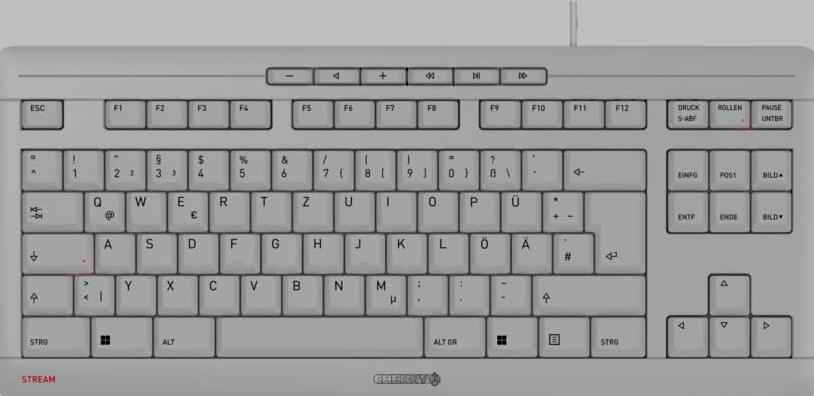0: (438, 147, 478, 189)
1: (63, 148, 101, 189)
2: (104, 148, 144, 189)
3: (146, 148, 186, 189)
4: (188, 147, 227, 188)
5: (229, 147, 269, 189)
6: (270, 147, 311, 189)
7: (314, 148, 353, 188)
8: (354, 147, 394, 189)
9: (396, 147, 437, 189)
a: (94, 231, 133, 272)
accent: (522, 147, 561, 189)
ae: (511, 231, 550, 272)
alt-left: (152, 314, 215, 357)
altgr-right: (422, 314, 486, 357)
b: (281, 272, 322, 312)
c: (198, 272, 238, 312)
caret: (19, 147, 60, 188)
comma: (406, 272, 446, 313)
d: (178, 231, 217, 271)
del: (563, 147, 645, 188)
e: (167, 189, 207, 231)
enter: (584, 189, 645, 273)
f: (220, 231, 258, 272)
g: (261, 231, 300, 271)
h: (303, 231, 342, 271)
hash: (553, 231, 593, 272)
i: (376, 190, 414, 229)
j: (344, 231, 383, 272)
k: (387, 231, 426, 271)
keyboard: (1, 41, 814, 396)
l: (428, 231, 466, 271)
less: (73, 273, 114, 313)
m: (365, 272, 405, 313)
minus: (489, 273, 530, 312)
n: (324, 273, 363, 313)
o: (417, 189, 457, 229)
oe: (469, 231, 508, 271)
p: (459, 189, 498, 230)
plus: (542, 189, 582, 231)
point: (449, 273, 488, 312)
q: (83, 189, 124, 231)
r: (209, 190, 249, 230)
s: (136, 231, 174, 271)
shift-left: (20, 273, 69, 314)
shift-lock: (21, 230, 91, 272)
shift-right: (534, 272, 645, 313)
space: (217, 313, 421, 357)
ss: (479, 147, 520, 189)
strg-left: (18, 314, 89, 357)
strg-right: (589, 314, 646, 357)
t: (251, 190, 290, 230)
tab: (20, 189, 80, 230)
u: (334, 189, 373, 230)
ue: (500, 189, 540, 231)
v: (241, 273, 279, 312)
w: (126, 189, 164, 230)
x: (157, 273, 196, 312)
y: (116, 273, 155, 313)
z: (292, 190, 332, 231)
